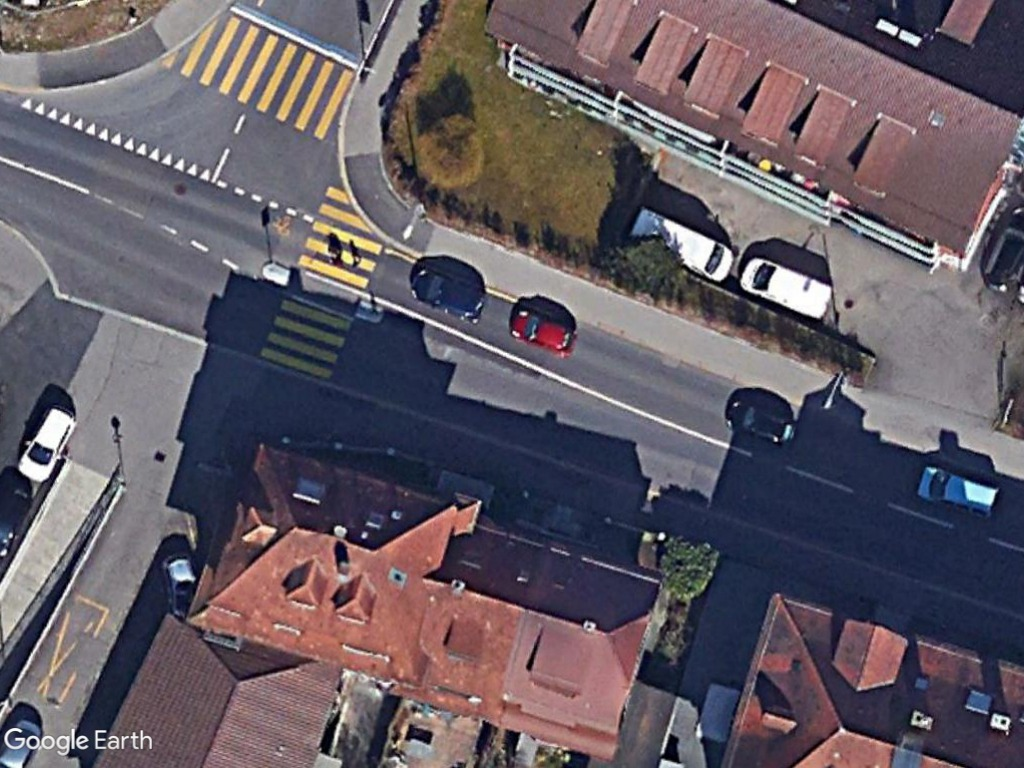car: (15, 402, 79, 485), (509, 307, 581, 359)
van: (735, 253, 836, 323), (914, 463, 1000, 523)
